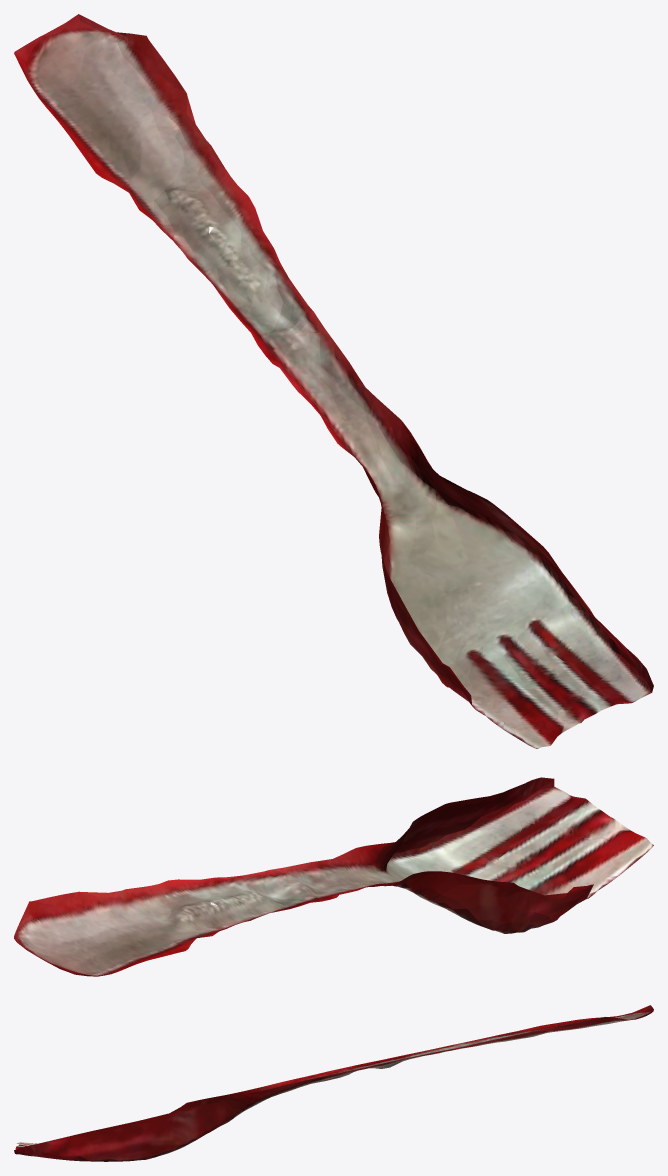
The model's file is fork.glb.
3 views of the same model, one above another, from view 1: azimuth 30°, elevation 25°; view 2: azimuth 150°, elevation 25°; view 3: azimuth 270°, elevation 25° (orthographic). The views are drawn at different scales.
Bounding box in the file's own units: 0.025 × 0.0498 × 0.1716.
1 material, 1 textured.
